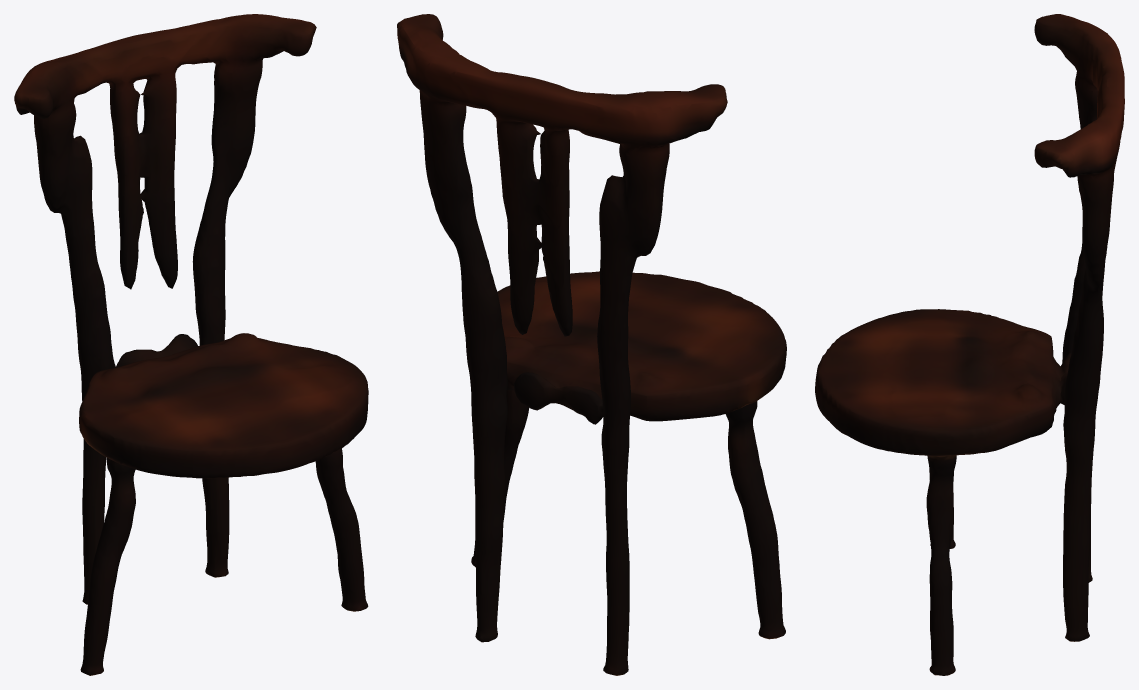
File: an old style brown wooden chair with curved back a.glb
The picture shows the model from 3 angles, left to right: view 1: azimuth 30°, elevation 25°; view 2: azimuth 150°, elevation 25°; view 3: azimuth 270°, elevation 25°; orthographic projection. The views are drawn at different scales.
Parts seen in each view (by area): view 1: an old style brown wooden chair with curved back a; view 2: an old style brown wooden chair with curved back a; view 3: an old style brown wooden chair with curved back a.
Boxes of the visible parts, left/top/right/bottom form: an old style brown wooden chair with curved back a: left=14, top=14, right=368, bottom=675; an old style brown wooden chair with curved back a: left=397, top=14, right=786, bottom=675; an old style brown wooden chair with curved back a: left=815, top=14, right=1124, bottom=675.
Size of the model in its own units: 1.13 by 1.95 by 1.03.
